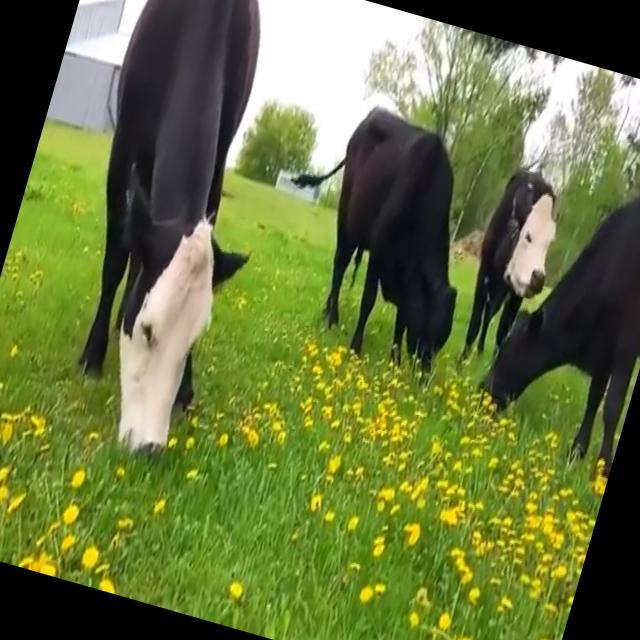COW: (79, 0, 259, 450), (462, 170, 640, 475), (297, 107, 455, 371)
